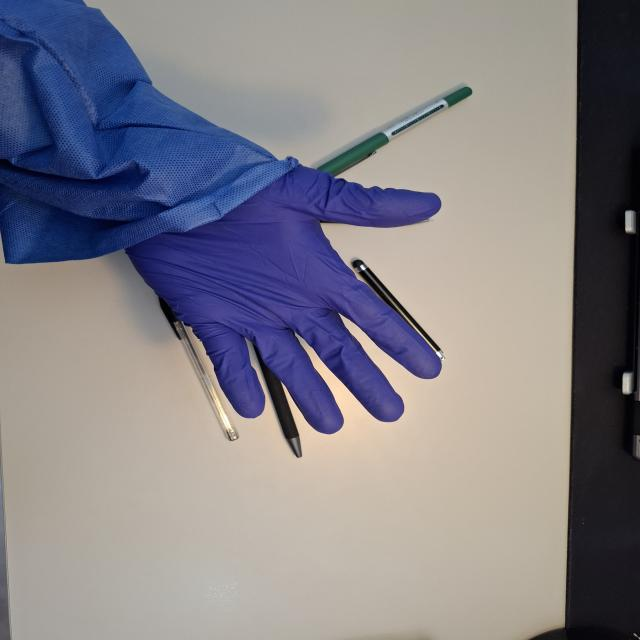glove_on: (119, 160, 446, 436)
